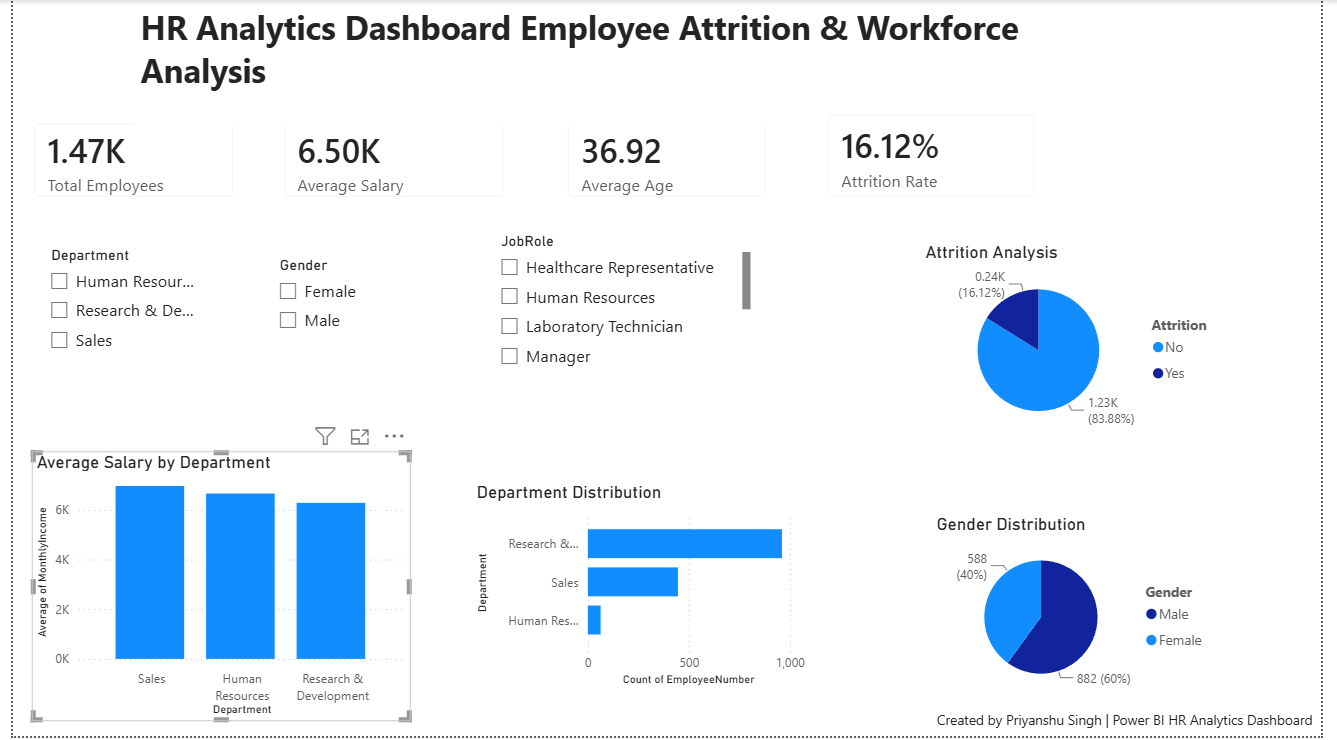

The page's visual inventory and layout, read from the dashboard file:
{"tool":"powerbi","page":{"name":"Page 1","canvas":[1280,720],"ordinal":0},"visuals":[{"type":"cardVisual","fields":{"Data":["Count(WA_Fn-UseC_-HR-Employee-Attrition.EmployeeNumber)"]},"box":[3.7,103.9,229.9,106.4],"z":0},{"type":"cardVisual","fields":{"Data":["Avg(WA_Fn-UseC_-HR-Employee-Attrition.MonthlyIncome)"]},"box":[248.2,103.9,249.5,106.4],"z":1000},{"type":"pieChart","title":"Attrition Analysis","fields":{"Category":["WA_Fn-UseC_-HR-Employee-Attrition.Attrition"],"Y":["CountNonNull(WA_Fn-UseC_-HR-Employee-Attrition.EmployeeNumber)"]},"box":[887.8,236,302,194.4],"z":2000},{"type":"clusteredBarChart","title":"Department Distribution","fields":{"Category":["WA_Fn-UseC_-HR-Employee-Attrition.Department"],"Y":["CountNonNull(WA_Fn-UseC_-HR-Employee-Attrition.EmployeeNumber)"]},"box":[448.8,470.8,331.4,205.4],"z":3000},{"type":"pieChart","title":"Gender Distribution","fields":{"Category":["WA_Fn-UseC_-HR-Employee-Attrition.Gender"],"Y":["CountNonNull(WA_Fn-UseC_-HR-Employee-Attrition.EmployeeNumber)"]},"box":[898.8,502.6,280,183.4],"z":4000},{"type":"columnChart","title":"Average Salary by Department","fields":{"Category":["WA_Fn-UseC_-HR-Employee-Attrition.Department"],"Y":["Avg(WA_Fn-UseC_-HR-Employee-Attrition.MonthlyIncome)"]},"box":[18.3,441.4,370.5,264.1],"z":5000},{"type":"cardVisual","fields":{"Data":["Avg(WA_Fn-UseC_-HR-Employee-Attrition.Age)"]},"box":[525.8,103.9,227.4,106.4],"z":6000},{"type":"slicer","fields":{"Values":["WA_Fn-UseC_-HR-Employee-Attrition.Department"]},"box":[24.5,236,162.6,123.5],"z":7000},{"type":"slicer","fields":{"Values":["WA_Fn-UseC_-HR-Employee-Attrition.Gender"]},"box":[248.2,245.8,140.6,105.2],"z":8000},{"type":"slicer","fields":{"Values":["WA_Fn-UseC_-HR-Employee-Attrition.JobRole"]},"box":[464.7,222.6,261.7,150.4],"z":9000},{"type":"textbox","box":[119.8,0,951.4,122.3],"z":10000},{"type":"cardVisual","fields":{"Data":["WA_Fn-UseC_-HR-Employee-Attrition.Attrition Rate"]},"box":[780.2,95.4,236,114.9],"z":11000},{"type":"textbox","box":[898.8,689.7,381.5,30.6],"z":11001}]}

Visuals, with their boxes in screenshot pixels (x1, y1, x2, y2), scaled from the page's 1280x720 canvas onto the 1337x740 screenshot:
cardVisual - Count(WA_Fn-UseC_-HR-Employee-Attrition.EmployeeNumber): (left=4, top=107, right=244, bottom=216)
cardVisual - Avg(WA_Fn-UseC_-HR-Employee-Attrition.MonthlyIncome): (left=259, top=107, right=520, bottom=216)
"Attrition Analysis" pieChart: (left=927, top=243, right=1243, bottom=442)
"Department Distribution" clusteredBarChart: (left=469, top=484, right=815, bottom=695)
"Gender Distribution" pieChart: (left=939, top=517, right=1231, bottom=705)
"Average Salary by Department" columnChart: (left=19, top=454, right=406, bottom=725)
cardVisual - Avg(WA_Fn-UseC_-HR-Employee-Attrition.Age): (left=549, top=107, right=787, bottom=216)
slicer - WA_Fn-UseC_-HR-Employee-Attrition.Department: (left=26, top=243, right=195, bottom=369)
slicer - WA_Fn-UseC_-HR-Employee-Attrition.Gender: (left=259, top=253, right=406, bottom=361)
slicer - WA_Fn-UseC_-HR-Employee-Attrition.JobRole: (left=485, top=229, right=759, bottom=383)
textbox: (left=125, top=0, right=1119, bottom=126)
cardVisual - WA_Fn-UseC_-HR-Employee-Attrition.Attrition Rate: (left=815, top=98, right=1061, bottom=216)
textbox: (left=939, top=709, right=1336, bottom=739)
